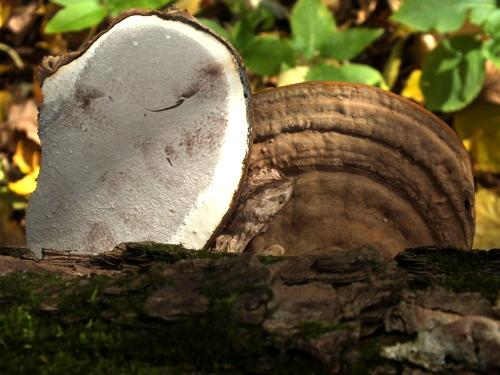Ganoderma - Fruit Body: (22, 4, 249, 254), (253, 78, 478, 254)
